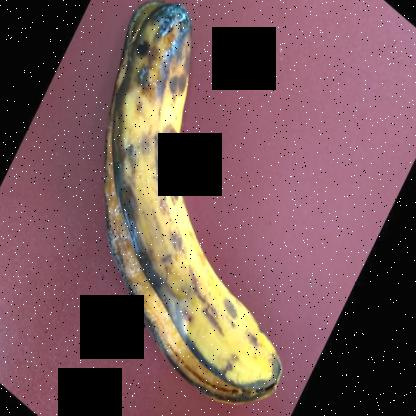rotten: (81, 1, 292, 411)
